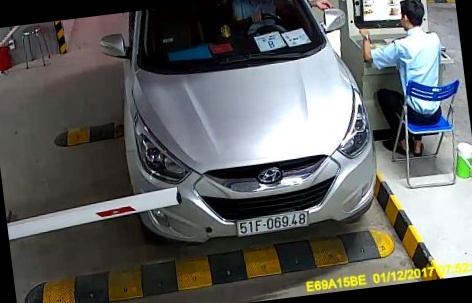plate: (234, 209, 318, 239)
